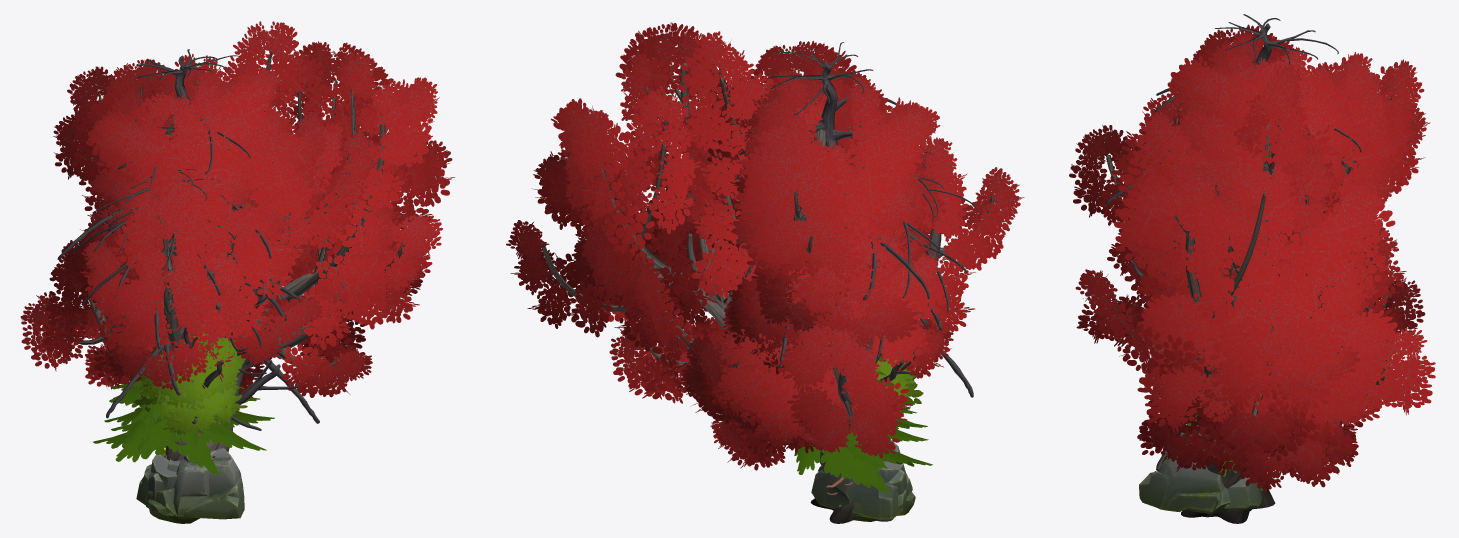
The model's file is nature.glb.
3 renders of one model, left to right at view 1: azimuth 30°, elevation 25°; view 2: azimuth 150°, elevation 25°; view 3: azimuth 270°, elevation 25°, orthographic. The views are drawn at different scales.
Visible parts, largest first — view 1: TwistedTree_3, TwistedTree_1, TwistedTree_5, Pine_5, DeadTree_5, Rock_Medium_3, CommonTree_1, CommonTree_3, Rock_Medium_1, DeadTree_1, DeadTree_3, Pine_1 (+1 smaller); view 2: TwistedTree_1, TwistedTree_3, TwistedTree_5, DeadTree_5, Pine_5, Rock_Medium_2, DeadTree_3; view 3: TwistedTree_1, TwistedTree_3, TwistedTree_5, Rock_Medium_3, DeadTree_5, Rock_Medium_2.
Boxes of the visible parts, <box> form: TwistedTree_3: <box>20,54,377,460</box>; TwistedTree_1: <box>106,21,455,508</box>; TwistedTree_5: <box>60,58,330,460</box>; Pine_5: <box>93,341,274,476</box>; DeadTree_5: <box>57,49,319,423</box>; Rock_Medium_3: <box>148,447,244,523</box>; CommonTree_1: <box>134,333,248,434</box>; CommonTree_3: <box>144,299,245,439</box>; Rock_Medium_1: <box>145,451,215,516</box>; DeadTree_1: <box>109,271,298,430</box>; DeadTree_3: <box>73,169,263,347</box>; Pine_1: <box>111,335,235,458</box>; TwistedTree_1: <box>506,22,929,523</box>; TwistedTree_3: <box>678,40,1024,470</box>; TwistedTree_5: <box>706,67,949,378</box>; DeadTree_5: <box>705,42,973,397</box>; Pine_5: <box>785,357,932,493</box>; Rock_Medium_2: <box>811,461,903,519</box>; DeadTree_3: <box>804,145,976,359</box>; TwistedTree_1: <box>1075,64,1435,523</box>; TwistedTree_3: <box>1069,31,1430,480</box>; TwistedTree_5: <box>1132,24,1424,318</box>; Rock_Medium_3: <box>1139,458,1224,511</box>; DeadTree_5: <box>1105,14,1369,517</box>; Rock_Medium_2: <box>1223,477,1261,509</box>.
Size of the model in its own units: 15.83 by 16.86 by 11.71.
Materials: 12 (12 with a texture image).
